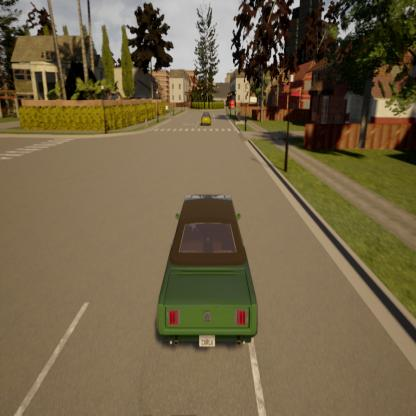Cars: (141, 186, 264, 356), (197, 108, 214, 128)
Pedestrian: (143, 115, 150, 132)
